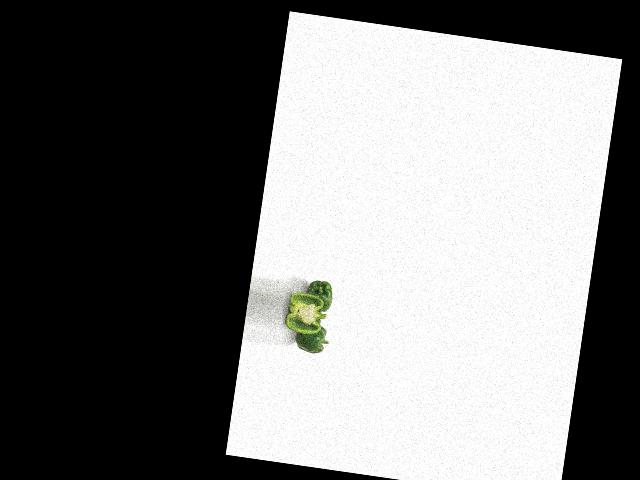bell_pepper: (300, 275, 337, 315)
